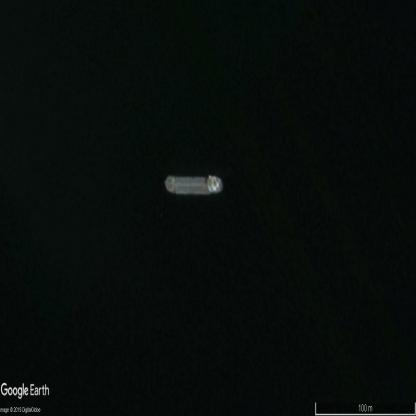ship: (164, 174, 223, 195)
